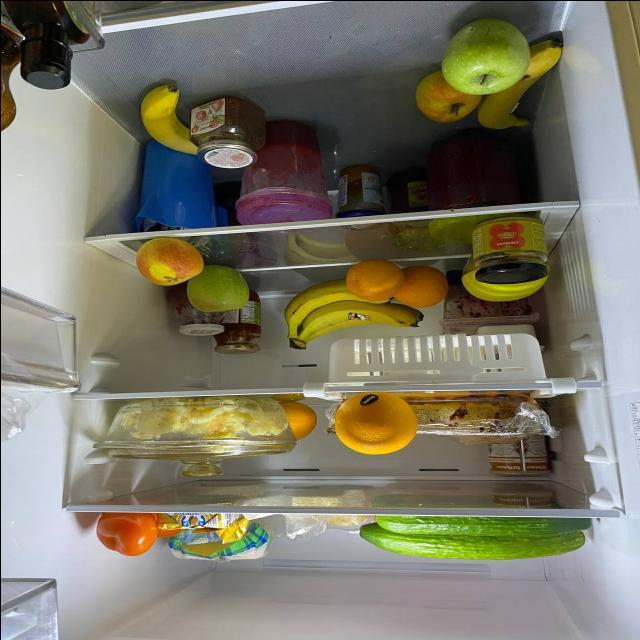Apple: (432, 19, 528, 93), (402, 68, 482, 124), (184, 264, 252, 312), (132, 241, 206, 283)
Banana: (472, 36, 566, 137), (280, 281, 416, 350), (139, 71, 209, 160)
Cucumber: (350, 527, 582, 563), (370, 510, 596, 539)
Orange: (326, 391, 424, 456), (340, 263, 406, 298), (394, 267, 446, 306), (275, 404, 321, 440)
Tomato: (91, 508, 158, 557), (141, 512, 183, 544)
